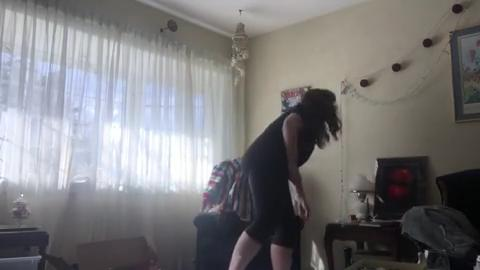blanket: (201, 158, 243, 213)
clothes: (399, 205, 475, 258)
light: (337, 1, 473, 223), (348, 172, 375, 218)
person: (227, 88, 341, 269)
picture: (375, 156, 428, 219), (449, 25, 479, 122), (280, 86, 309, 111)
sofa_couch: (193, 160, 304, 269), (417, 168, 480, 269)
table_desk: (323, 221, 405, 269), (1, 226, 49, 269)
